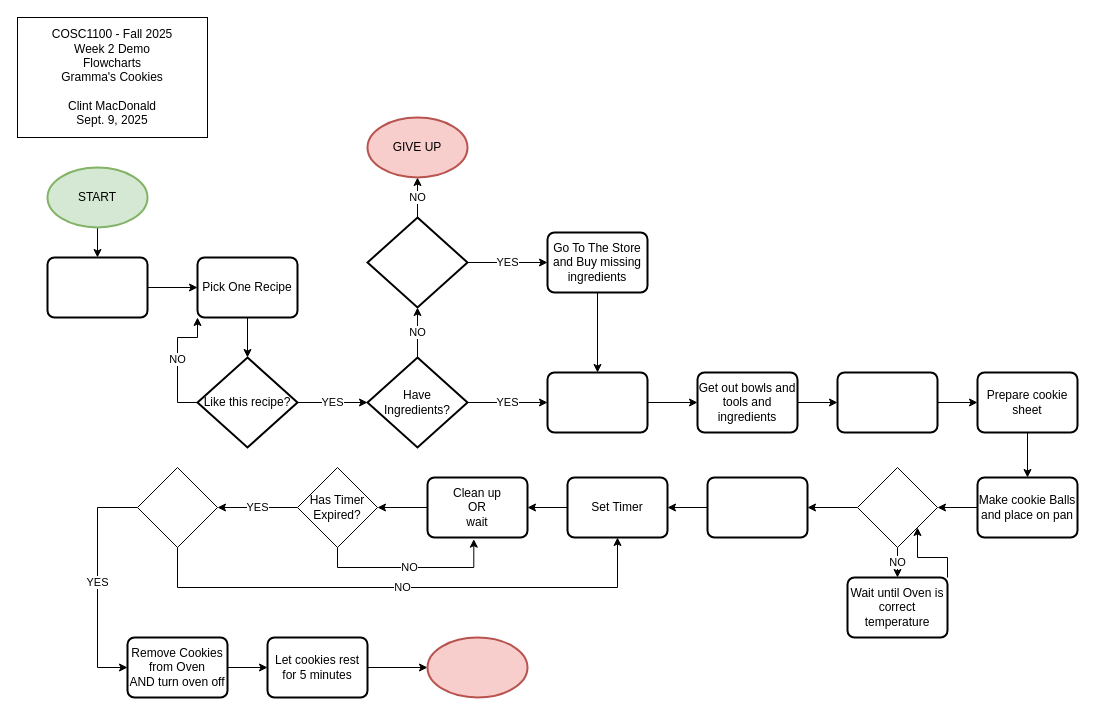
This 1096x716 diagram has some shape labels left out. Here are the shapes that lost their labels. From the top down, the centre of each, then its label:
At pixel 417 262: "Still Make Cookies?".
At pixel 97 287: "Find Recipies".
At pixel 597 402: "Wash Hands Pre-Heat Oven".
At pixel 887 402: "Mix the Cookie Dough".
At pixel 177 507: "Are Cookies Done?".
At pixel 757 507: "Put cookie sheet in oven".
At pixel 897 507: "Oven Correct Temp?".
At pixel 477 667: "YUM YUM".
